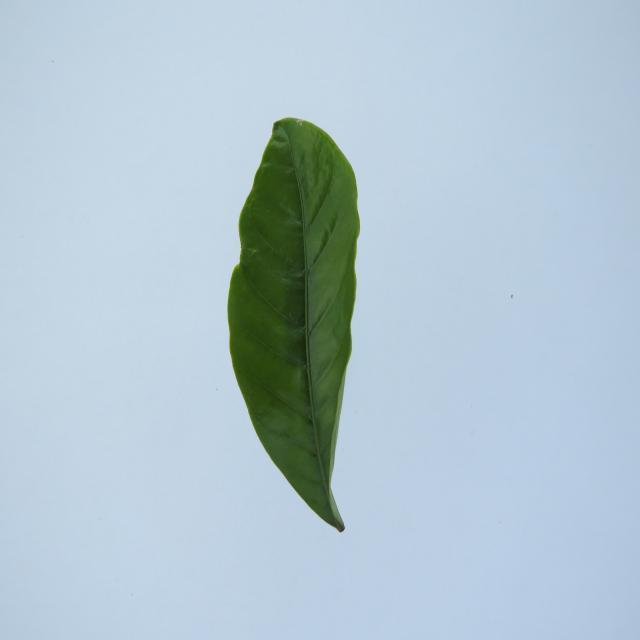DeficienciaNutricional-Boro: (228, 118, 360, 532)
